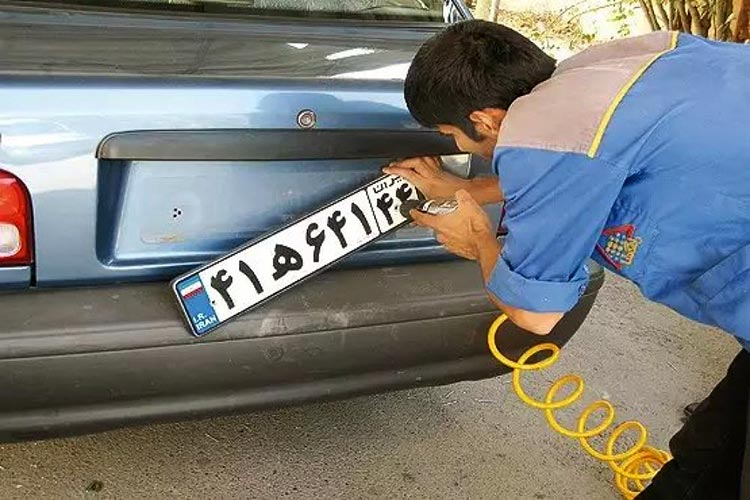car: (170, 163, 425, 341)
